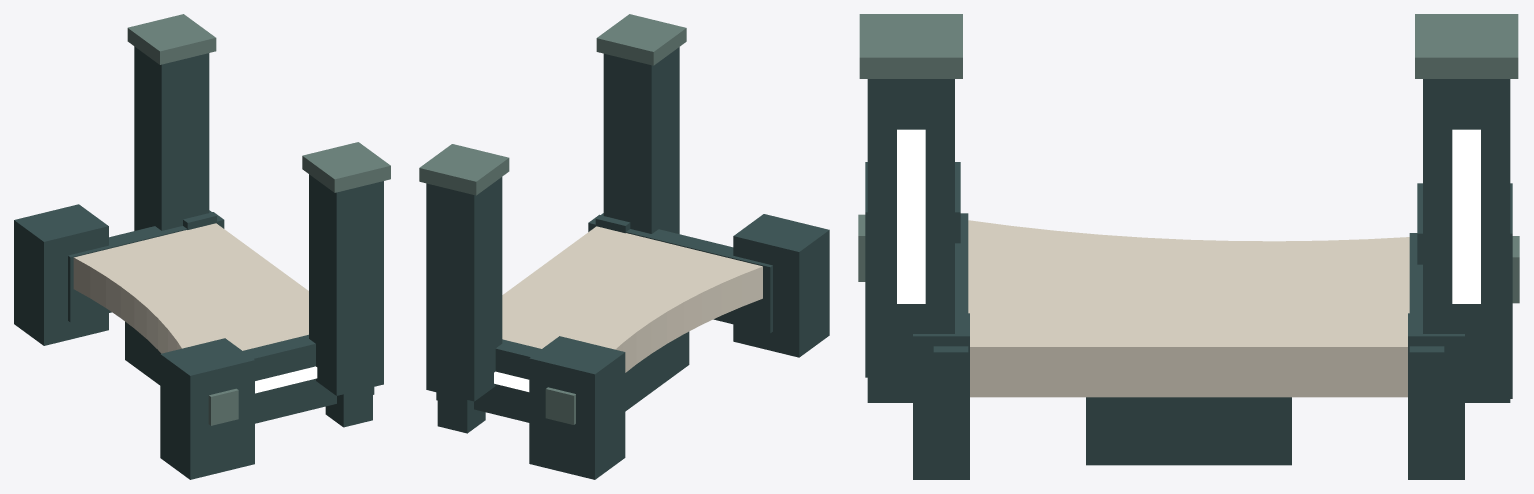
Rendered from Pier_Angled_05_Switch_lab.glb.
3 renders of one model, left to right at view 1: azimuth 30°, elevation 25°; view 2: azimuth 150°, elevation 25°; view 3: azimuth 270°, elevation 25°, orthographic. The views are drawn at different scales.
Visible parts, largest first — view 1: Pier_Angled_05_Switch; view 2: Pier_Angled_05_Switch; view 3: Pier_Angled_05_Switch.
Part boxes in pixels (x1,y1,x2,y2): Pier_Angled_05_Switch: (14,14,390,479); Pier_Angled_05_Switch: (419,14,829,479); Pier_Angled_05_Switch: (858,14,1519,479).
Size of the model in its own units: 2.38 by 2.95 by 4.17.
